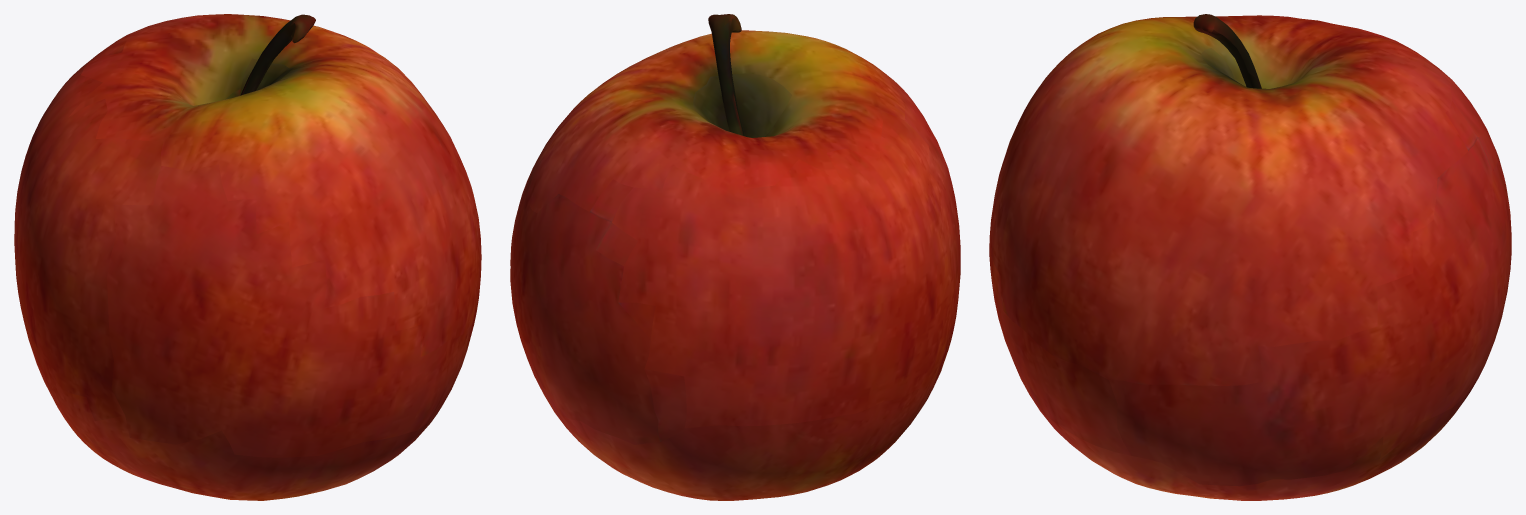
File: food_produce_apple_e01.glb
3 renders of one model, left to right at view 1: azimuth 30°, elevation 25°; view 2: azimuth 150°, elevation 25°; view 3: azimuth 270°, elevation 25°, orthographic. The views are drawn at different scales.
Parts seen in each view (by area): view 1: part0; view 2: part0; view 3: part0.
Part boxes in pixels (bbox=[...]): part0: bbox=[14, 14, 481, 500]; part0: bbox=[510, 14, 960, 500]; part0: bbox=[989, 14, 1511, 500].
Size of the model in its own units: 0.0645 by 0.0675 by 0.0696.
1 material, 1 textured.
